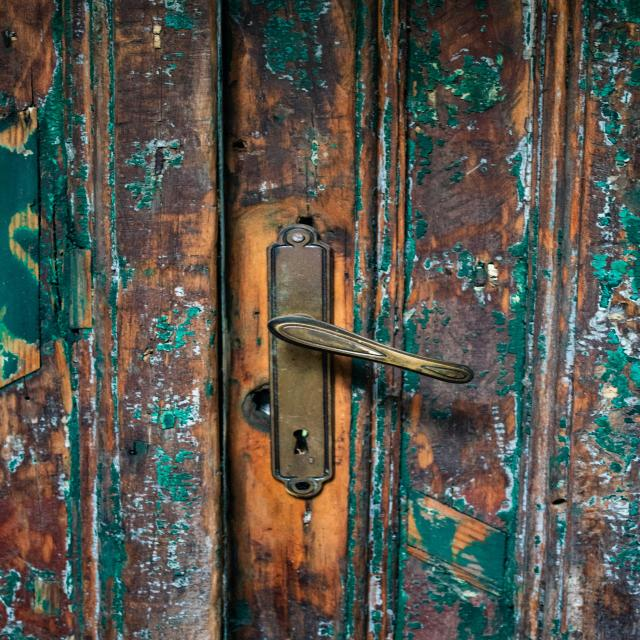door-handle: (268, 314, 474, 384)
